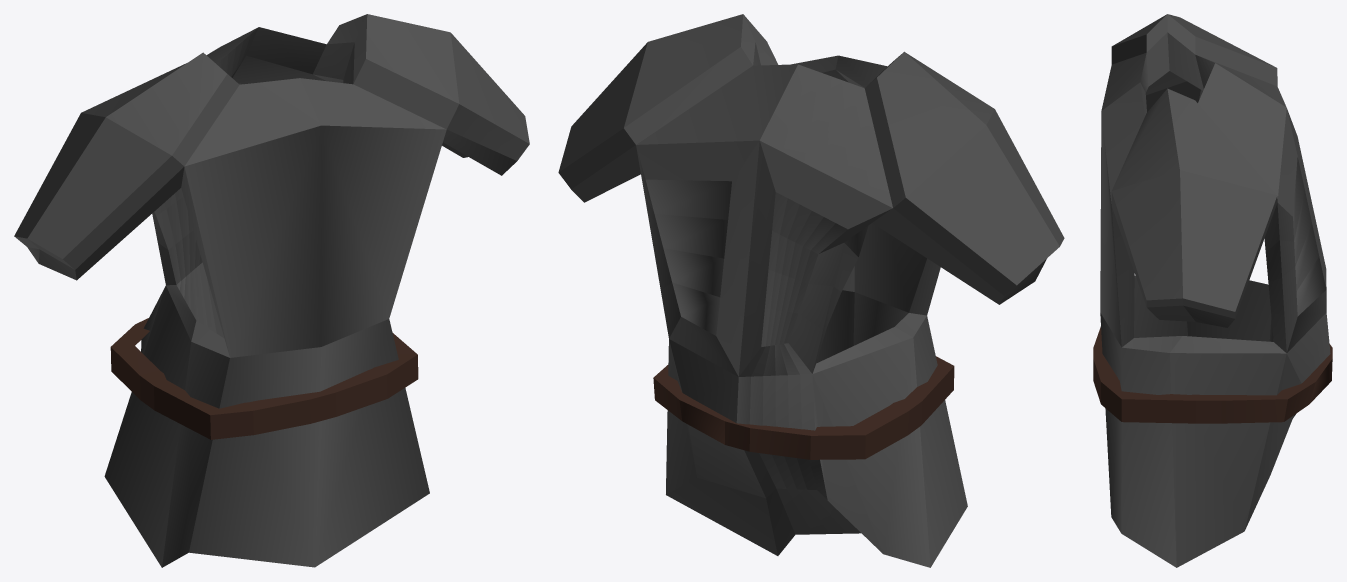
Rendered from Armor_Used_CreativeTechLab_EEtHhE.glb.
The picture shows the model from 3 angles, left to right: view 1: azimuth 30°, elevation 25°; view 2: azimuth 150°, elevation 25°; view 3: azimuth 270°, elevation 25°; orthographic projection. The views are drawn at different scales.
Visible parts, largest first — view 1: armor_used; view 2: armor_used; view 3: armor_used.
Boxes of the visible parts, left/top/right/bottom form: armor_used: left=14, top=14, right=529, bottom=567; armor_used: left=558, top=14, right=1064, bottom=567; armor_used: left=1093, top=14, right=1332, bottom=567.
Size of the model in its own units: 0.5 by 0.4918 by 0.2282.
